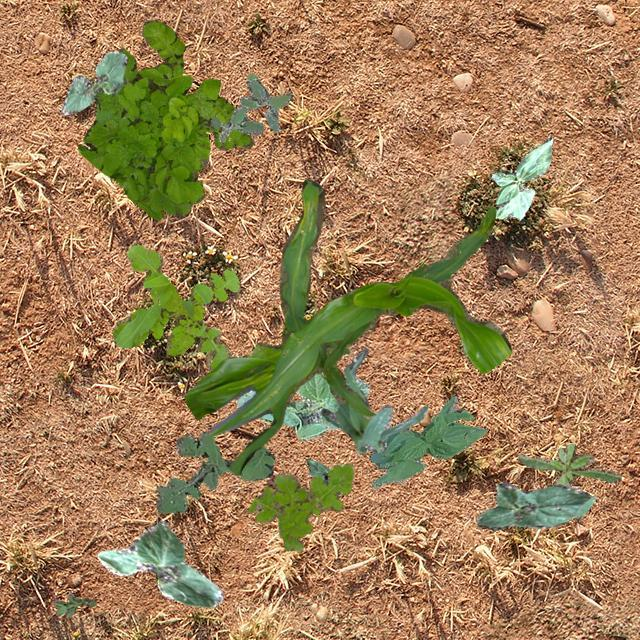crop: (182, 178, 510, 474), (320, 348, 428, 453), (368, 394, 486, 488), (96, 520, 222, 606), (235, 370, 368, 440), (476, 482, 594, 530), (490, 136, 552, 218), (60, 50, 126, 114), (306, 458, 328, 482)
weed: (76, 20, 252, 218), (112, 244, 238, 370), (154, 430, 274, 512), (246, 462, 352, 550), (210, 74, 292, 142), (516, 442, 620, 486), (52, 592, 94, 616)
